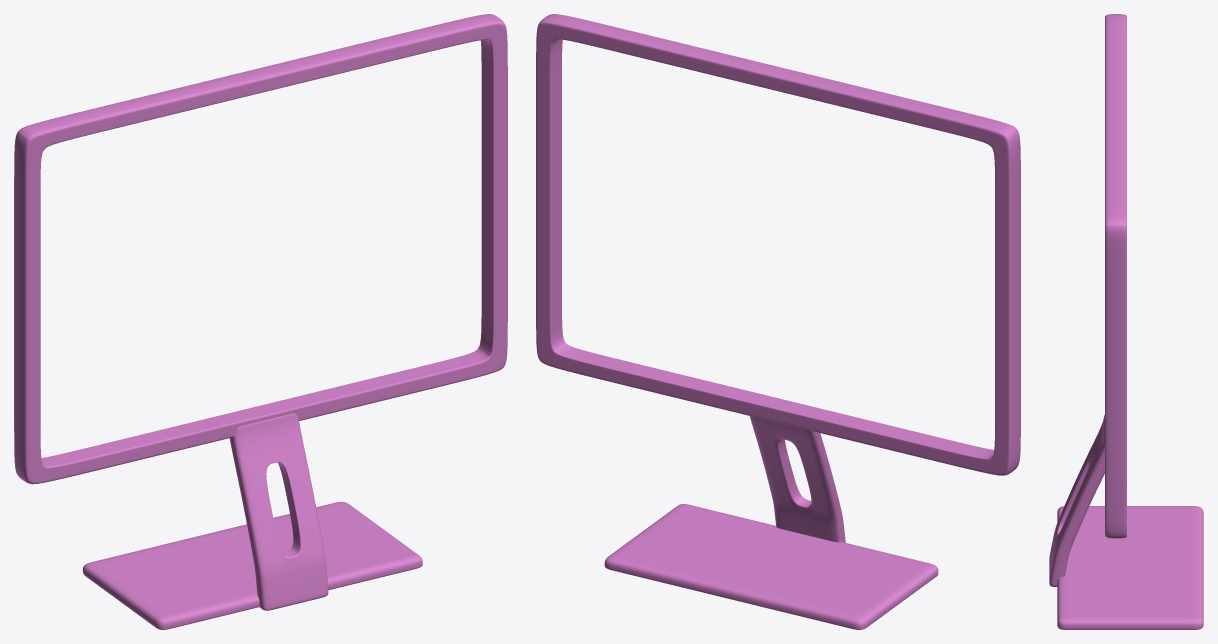
Rendered from monitor5.glb.
The picture shows the model from 3 angles, left to right: view 1: azimuth 30°, elevation 25°; view 2: azimuth 150°, elevation 25°; view 3: azimuth 270°, elevation 25°; orthographic projection. The views are drawn at different scales.
Visible parts, largest first — view 1: NewMontior.002; view 2: NewMontior.002; view 3: NewMontior.002.
Boxes of the visible parts, <box> form: NewMontior.002: <box>14,14,507,629</box>; NewMontior.002: <box>536,14,1020,629</box>; NewMontior.002: <box>1049,14,1203,629</box>.
Bounding box in the file's own units: 7.29 × 7.27 × 2.22.
